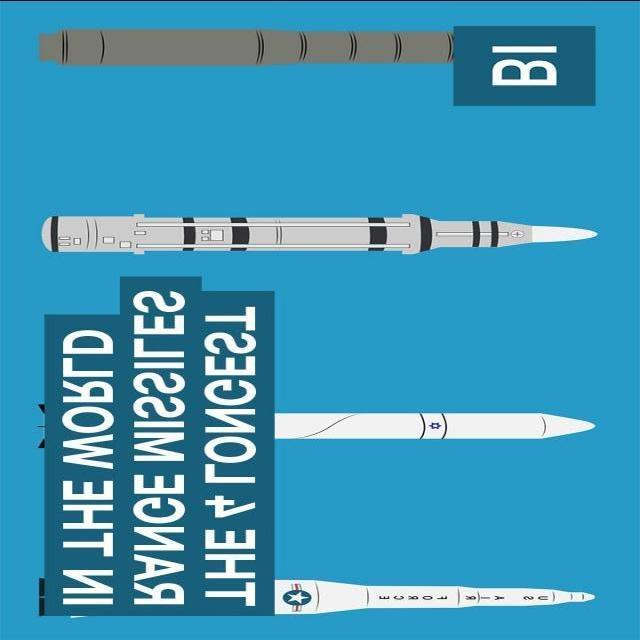Missile: (30, 205, 612, 260), (270, 568, 605, 621), (264, 406, 612, 441)
